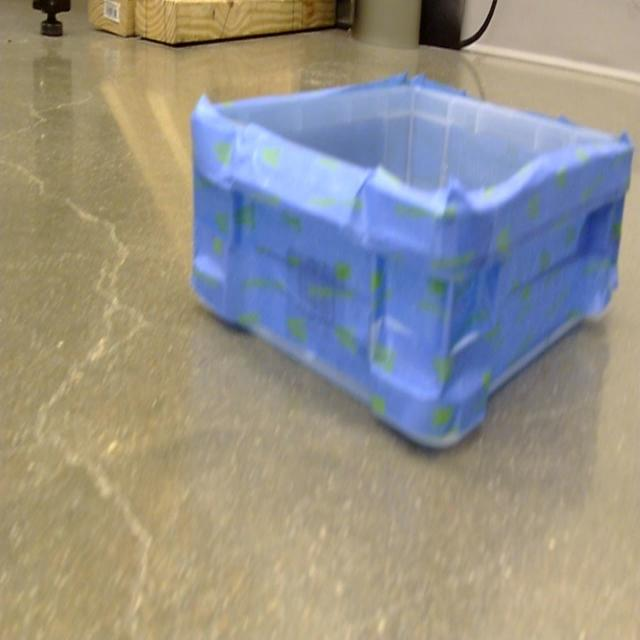bucket: (188, 76, 634, 454)
